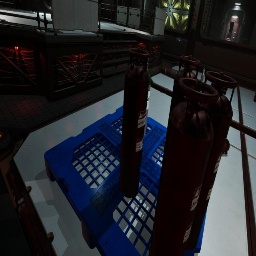0: (144, 58, 151, 134), (200, 68, 205, 93), (143, 62, 145, 66)
FireAlarm ,: (194, 14, 197, 21)
FireExtinguisher ]: (222, 139, 230, 154)
FirstAidBox ,: (254, 92, 256, 102), (50, 11, 52, 19)
NitrogenTank ,: (148, 78, 219, 256), (186, 71, 238, 250), (160, 55, 201, 180), (119, 47, 150, 198), (159, 65, 178, 79)
